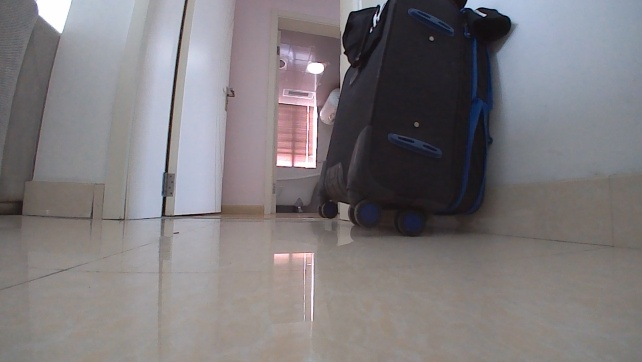door_anno: (141, 0, 236, 223)
